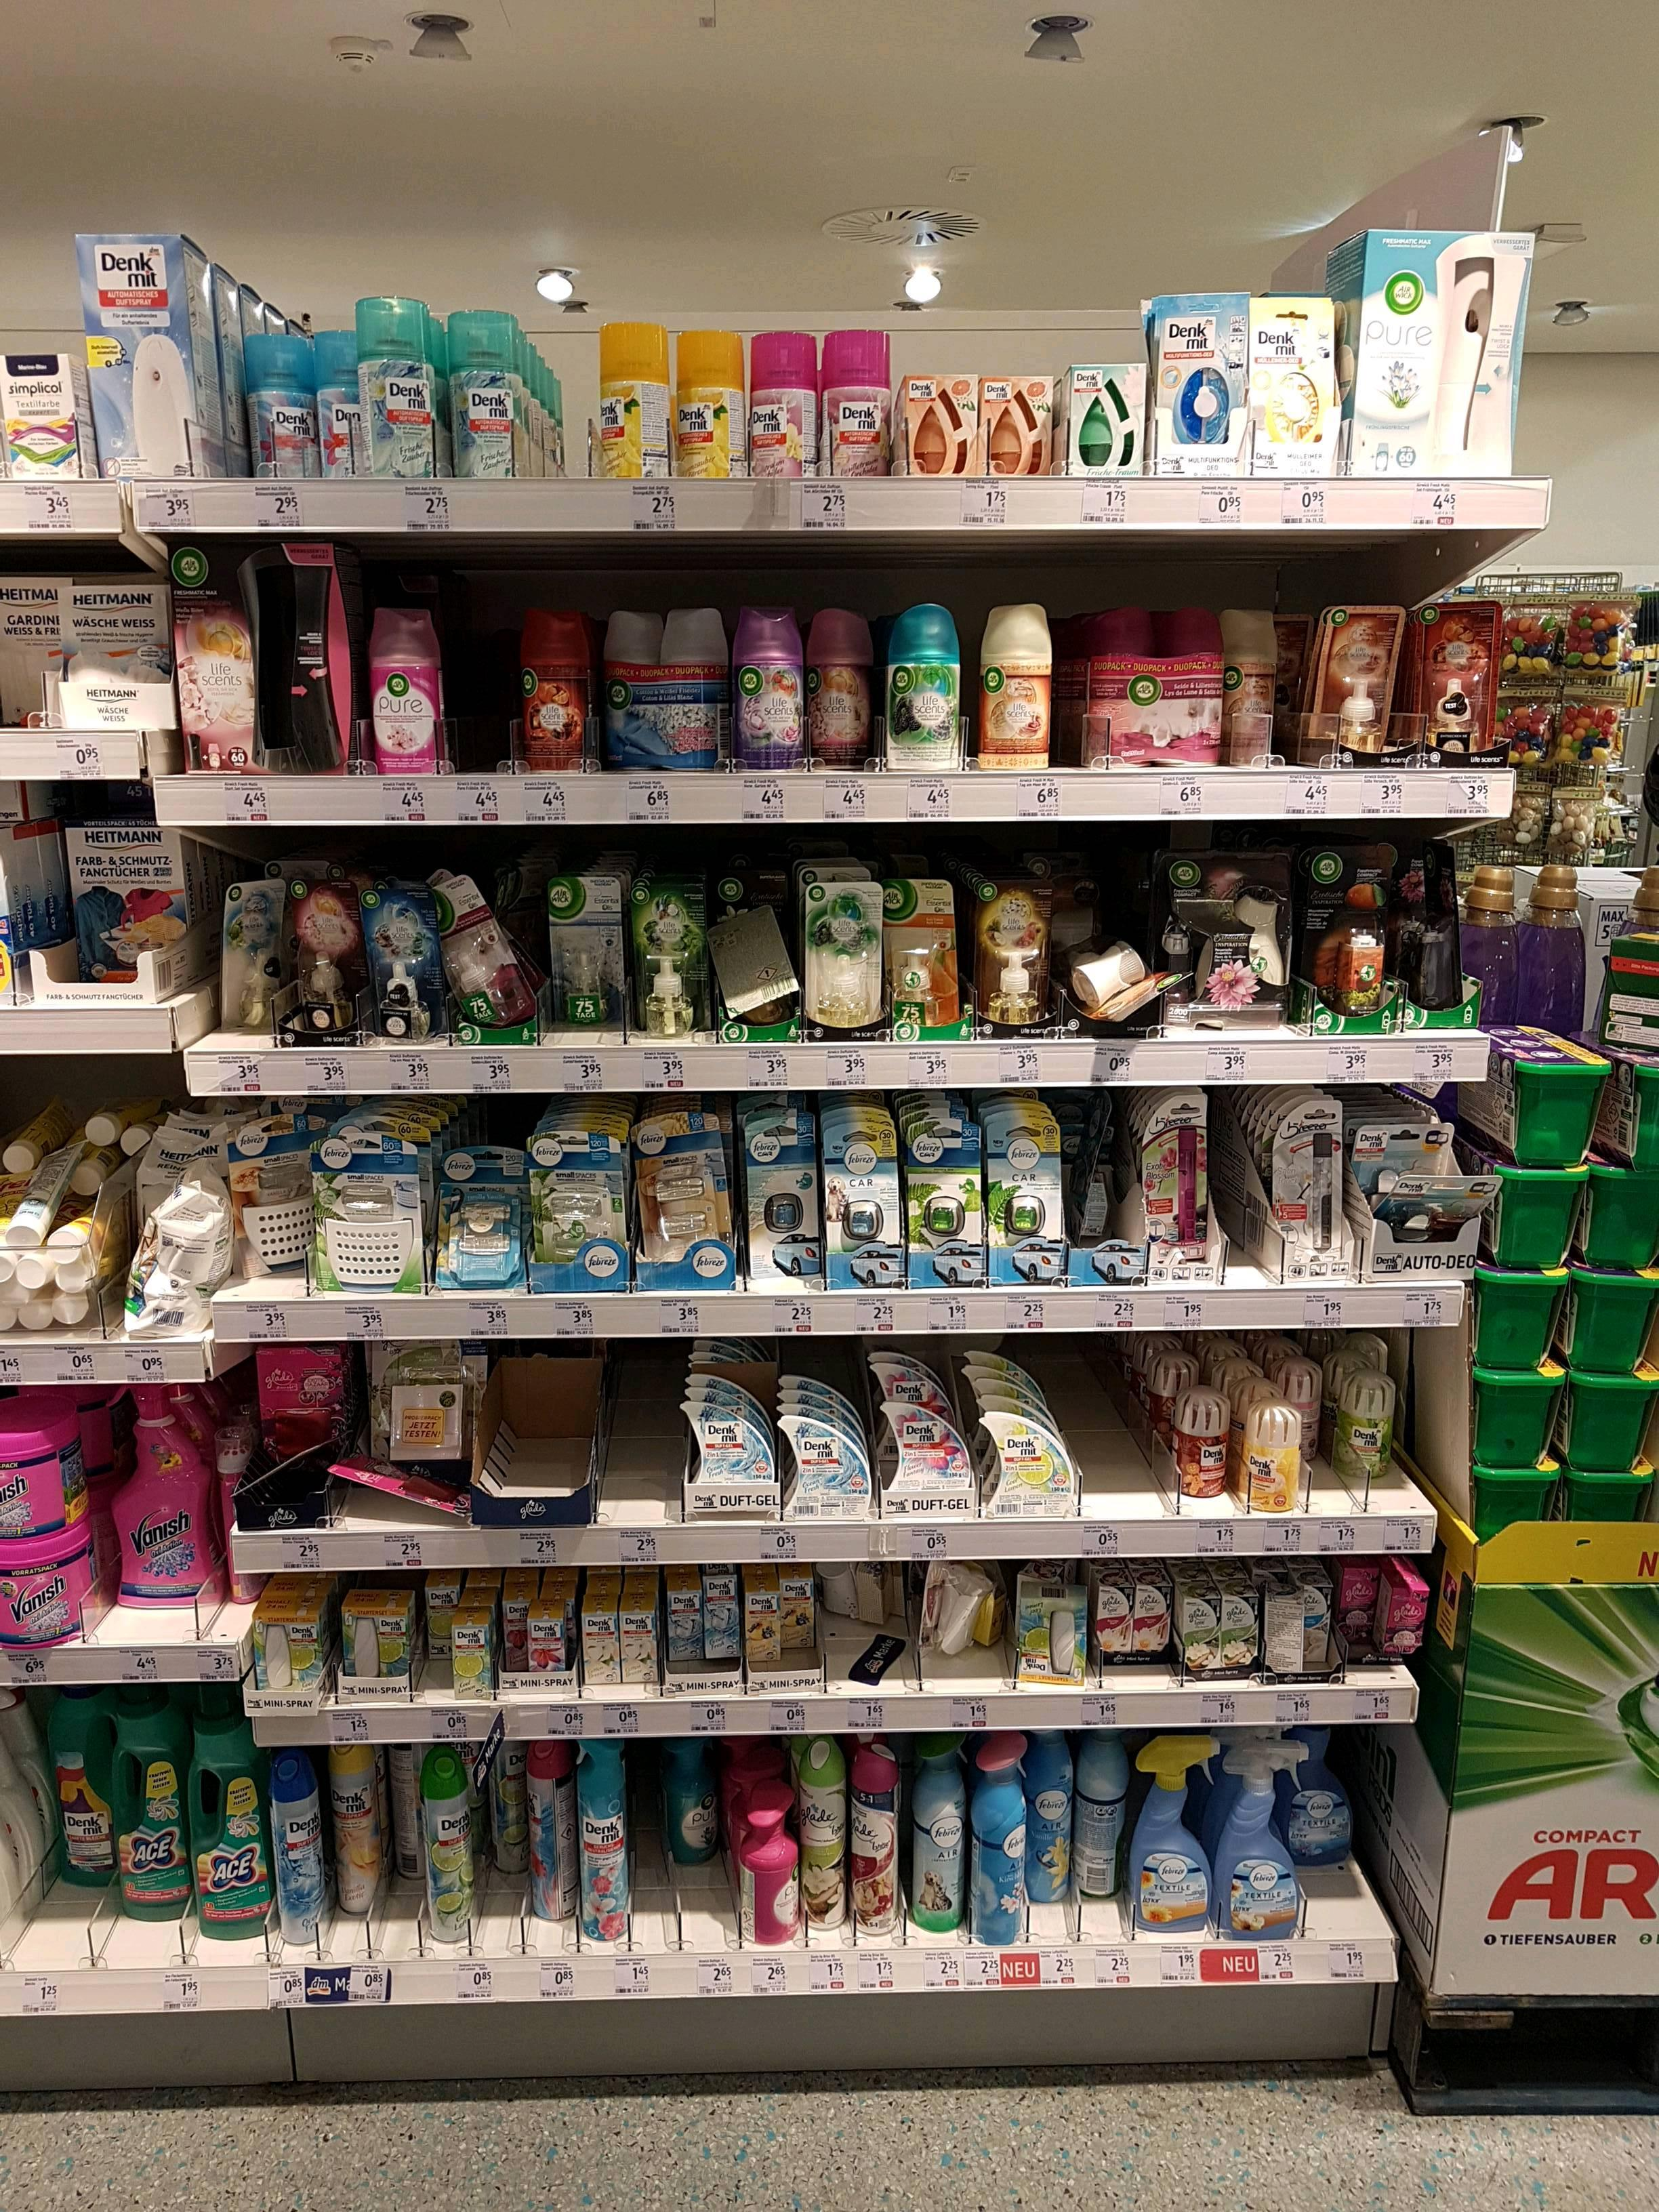misalignment: (439, 876, 547, 1024), (1378, 1139, 1485, 1258), (706, 895, 802, 1026), (1061, 930, 1178, 1029), (336, 1449, 462, 1536), (1058, 1089, 1119, 1247), (911, 1566, 1009, 1660), (251, 1414, 326, 1500)
